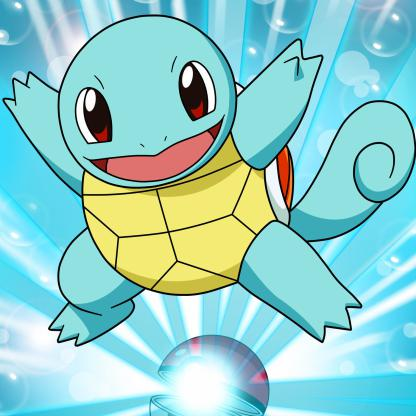Squirtle: (1, 9, 416, 345)
